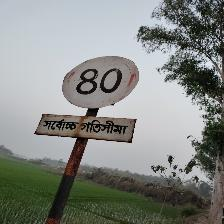Speed-limit: (35, 54, 140, 143)
